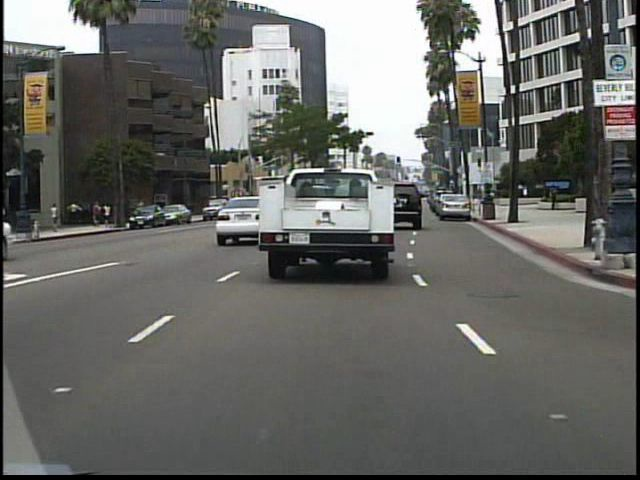person: (547, 183, 559, 214), (52, 202, 63, 233)
